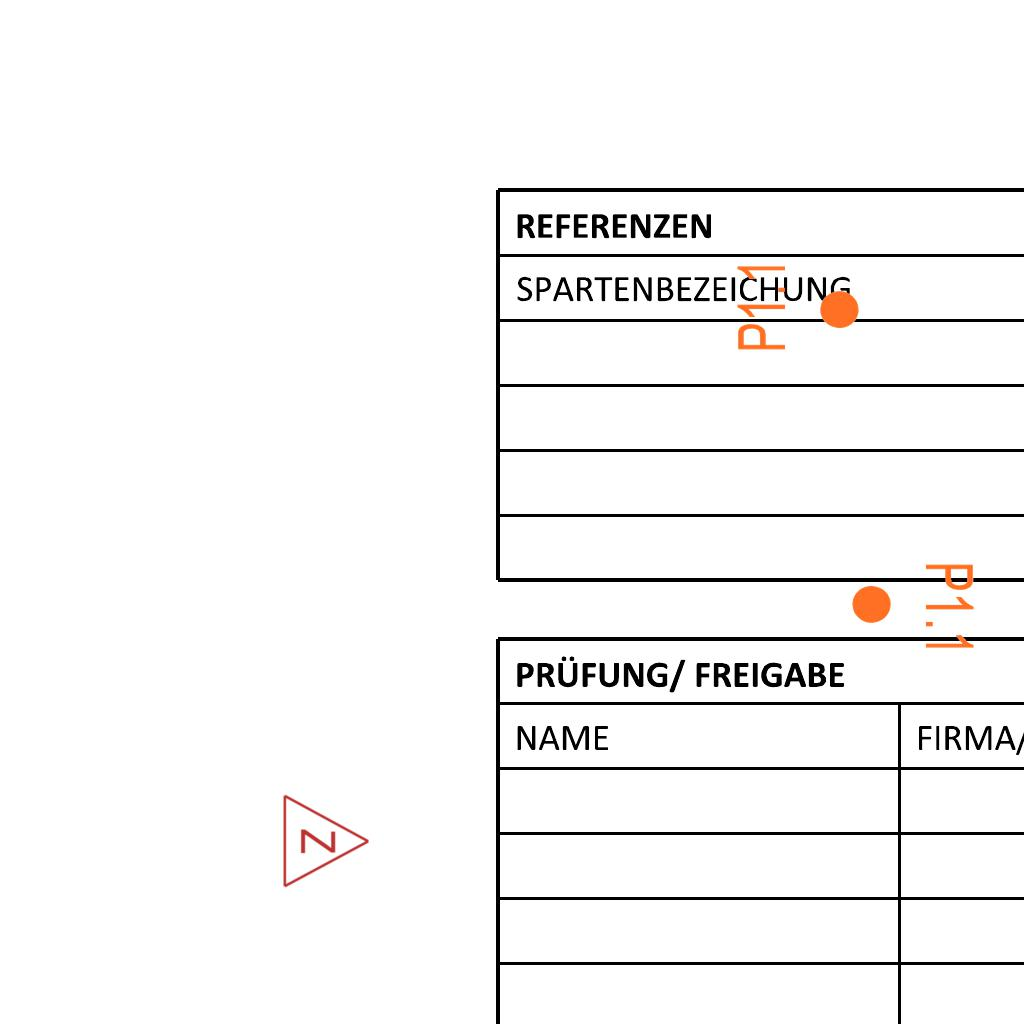Downlight_LED_Einbauleuchten_Flur: (849, 561, 977, 654), (734, 260, 862, 353)
Zimmersignalleuchte: (276, 791, 376, 889)
